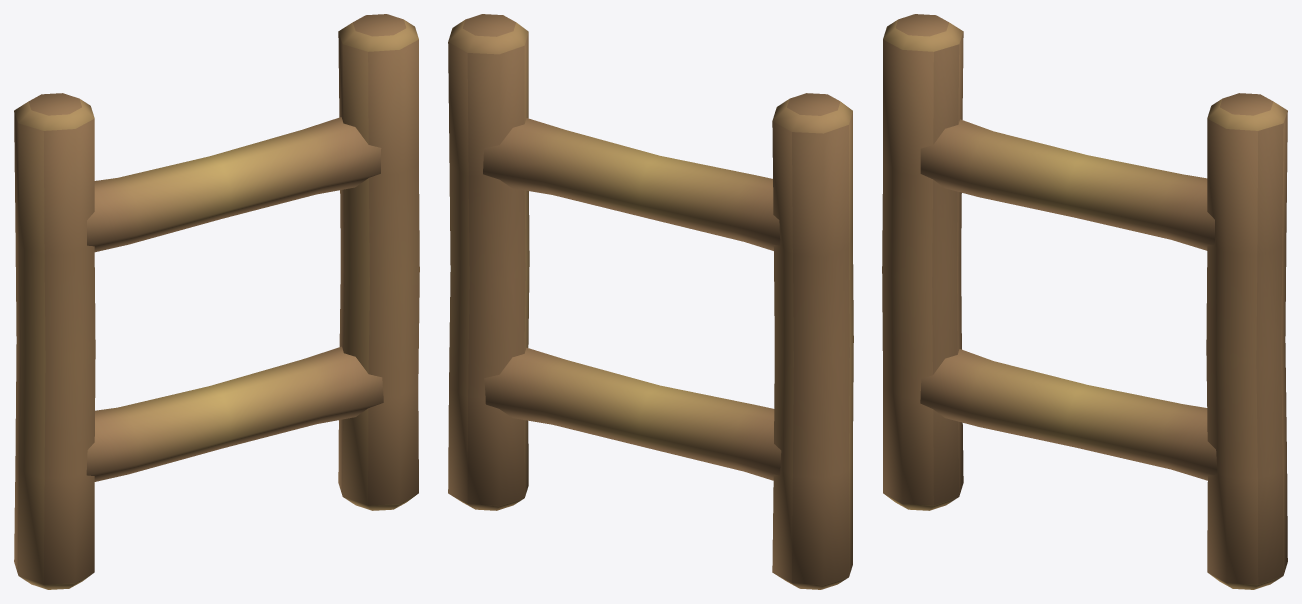
Rendered from tavern_ladder.fbx.
3 views of the same model, side by side, from view 1: azimuth 30°, elevation 25°; view 2: azimuth 150°, elevation 25°; view 3: azimuth 330°, elevation 25° (orthographic).
Parts seen in each view (by area): view 1: tavern_ladder_LOD0; view 2: tavern_ladder_LOD0; view 3: tavern_ladder_LOD0.
Part boxes in pixels (x1=…): tavern_ladder_LOD0: x1=14, y1=14, x2=419, y2=589; tavern_ladder_LOD0: x1=448, y1=14, x2=853, y2=589; tavern_ladder_LOD0: x1=882, y1=14, x2=1287, y2=589.
Size of what is drawn, in the model's own units: 88.12 by 101 by 16.53.
